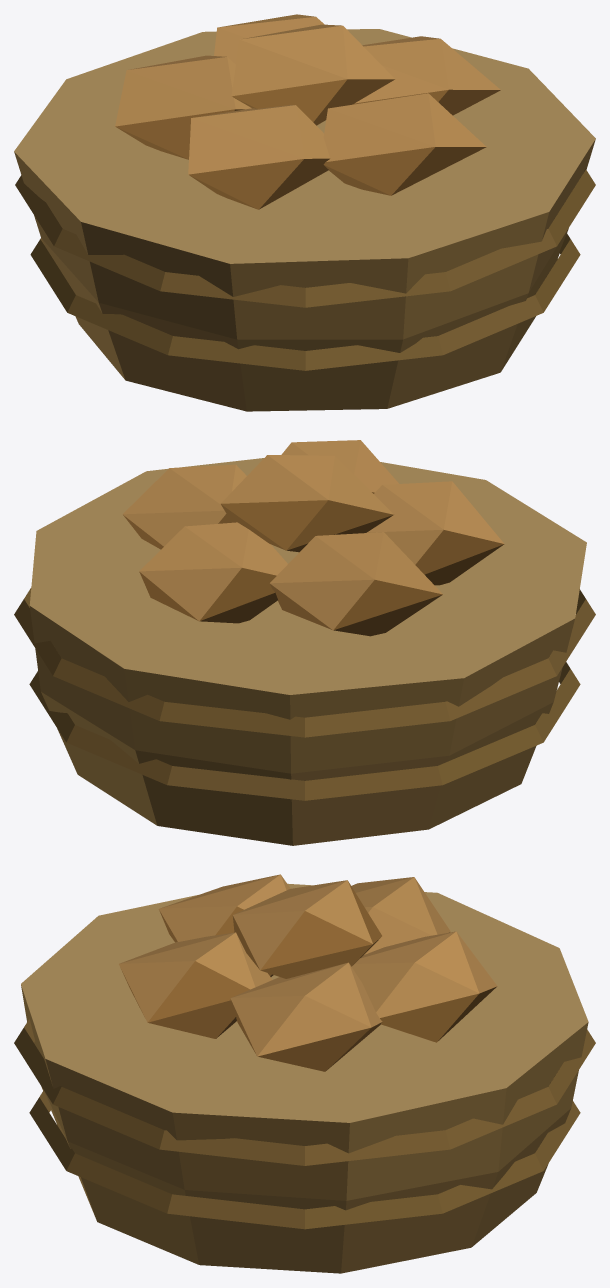
Rendered from breadbasket.glb.
3 views of the same model, one above another, from view 1: azimuth 30°, elevation 25°; view 2: azimuth 150°, elevation 25°; view 3: azimuth 270°, elevation 25° (orthographic).
Visible parts, largest first — view 1: base; view 2: base; view 3: base.
Part boxes in pixels (x1,y1,x2,y2): base: [14, 14, 595, 411]; base: [14, 440, 595, 845]; base: [14, 874, 595, 1273].
Size of the model in its own units: 0.3024 by 0.1633 by 0.3024.
